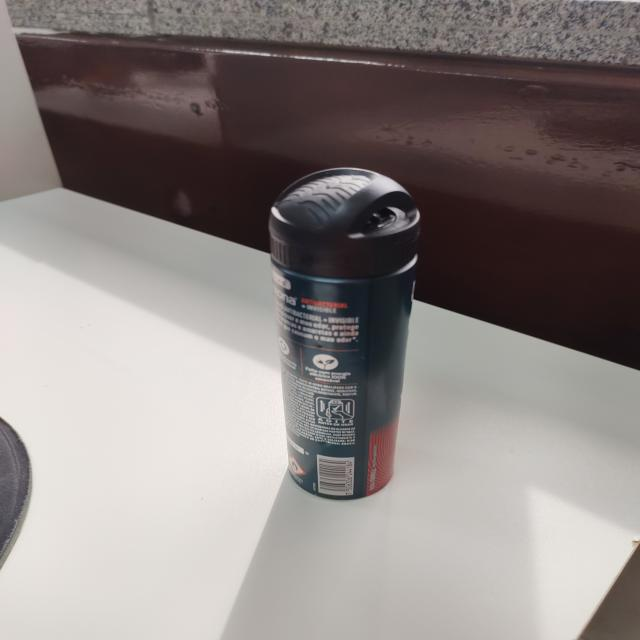Desodorante Azul: (259, 166, 429, 500)
